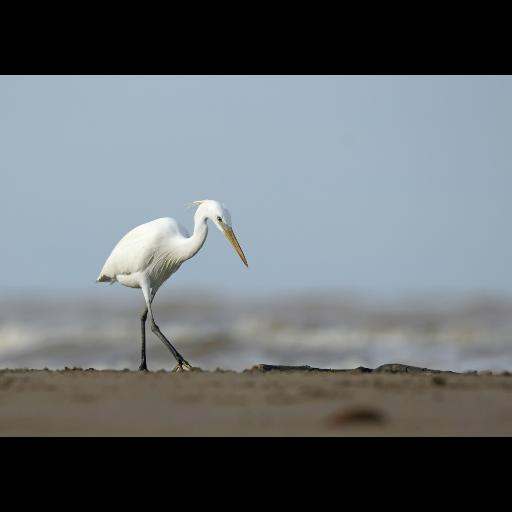chinese_egret: (95, 199, 249, 371)
